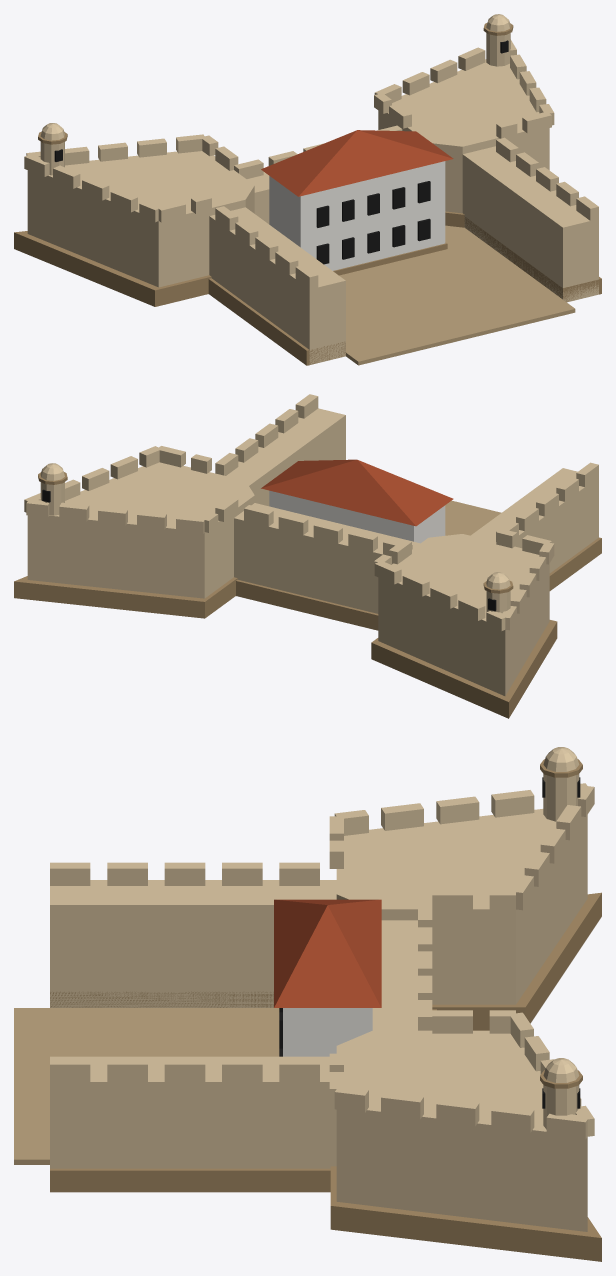
3 views of the same model, one above another, from view 1: azimuth 30°, elevation 25°; view 2: azimuth 150°, elevation 25°; view 3: azimuth 270°, elevation 25° (orthographic). The views are drawn at different scales.
Visible parts, largest first — view 1: base; view 2: base; view 3: base.
Boxes of the visible parts, x1,y1,x2,y2 form: base: (14,14,601,365); base: (14,394,601,718); base: (14,747,601,1261).
Bounding box in the file's own units: 6.84 × 1.71 × 4.92.
